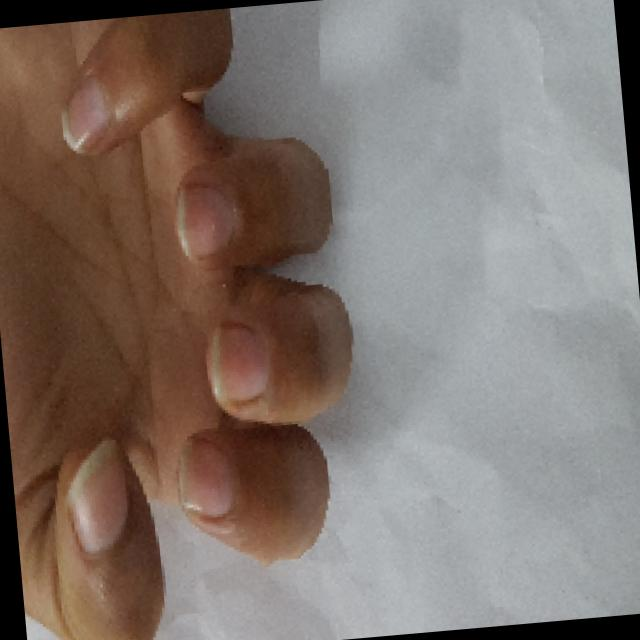Nail: (67, 439, 128, 552), (208, 322, 266, 399), (181, 439, 234, 515), (177, 183, 232, 256), (62, 77, 109, 152)
